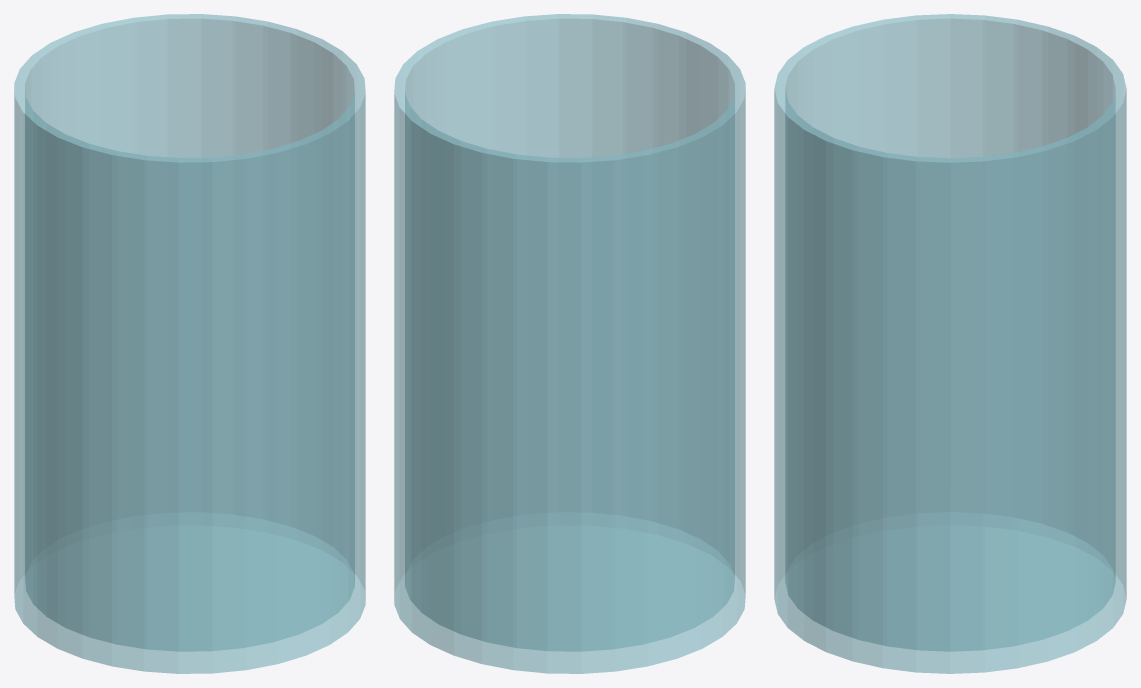
File: waterglass.fbx
The picture shows the model from 3 angles, left to right: view 1: azimuth 30°, elevation 25°; view 2: azimuth 150°, elevation 25°; view 3: azimuth 270°, elevation 25°; orthographic projection.
Visible parts, largest first — view 1: Cylinder; view 2: Cylinder; view 3: Cylinder.
Boxes of the visible parts, bbox=[...] form: Cylinder: bbox=[14, 14, 365, 673]; Cylinder: bbox=[394, 14, 745, 673]; Cylinder: bbox=[774, 14, 1126, 673].
Size of the model in its own units: 111 by 178 by 111.
